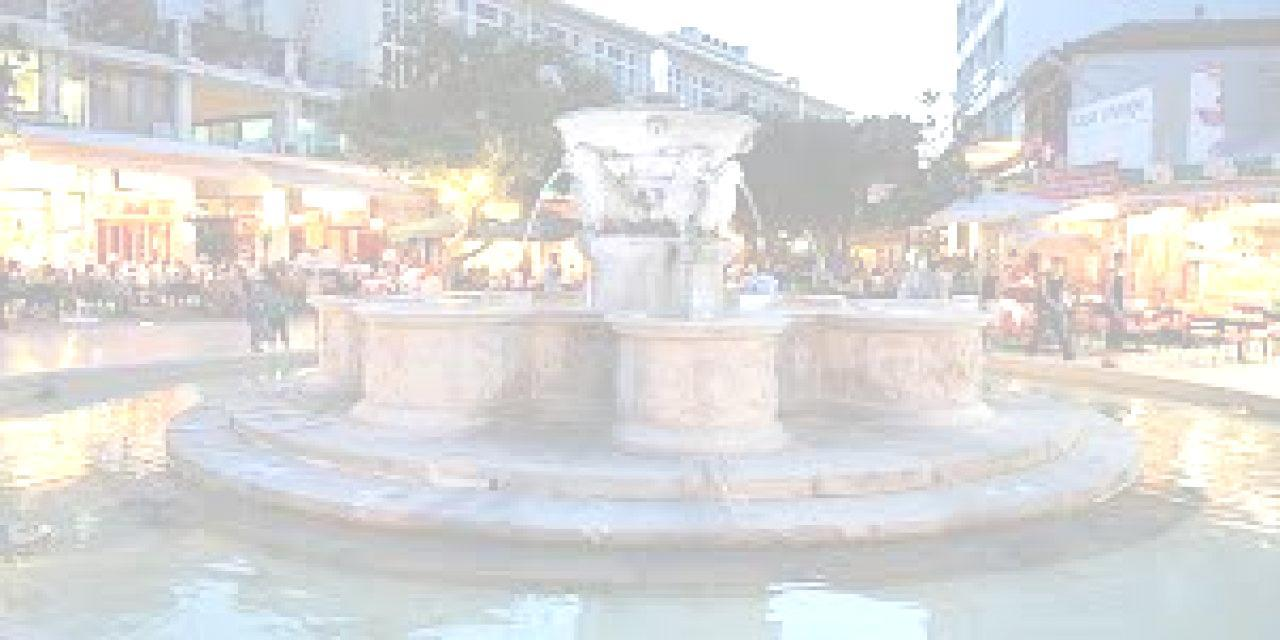Liontaria: (307, 106, 987, 463)
